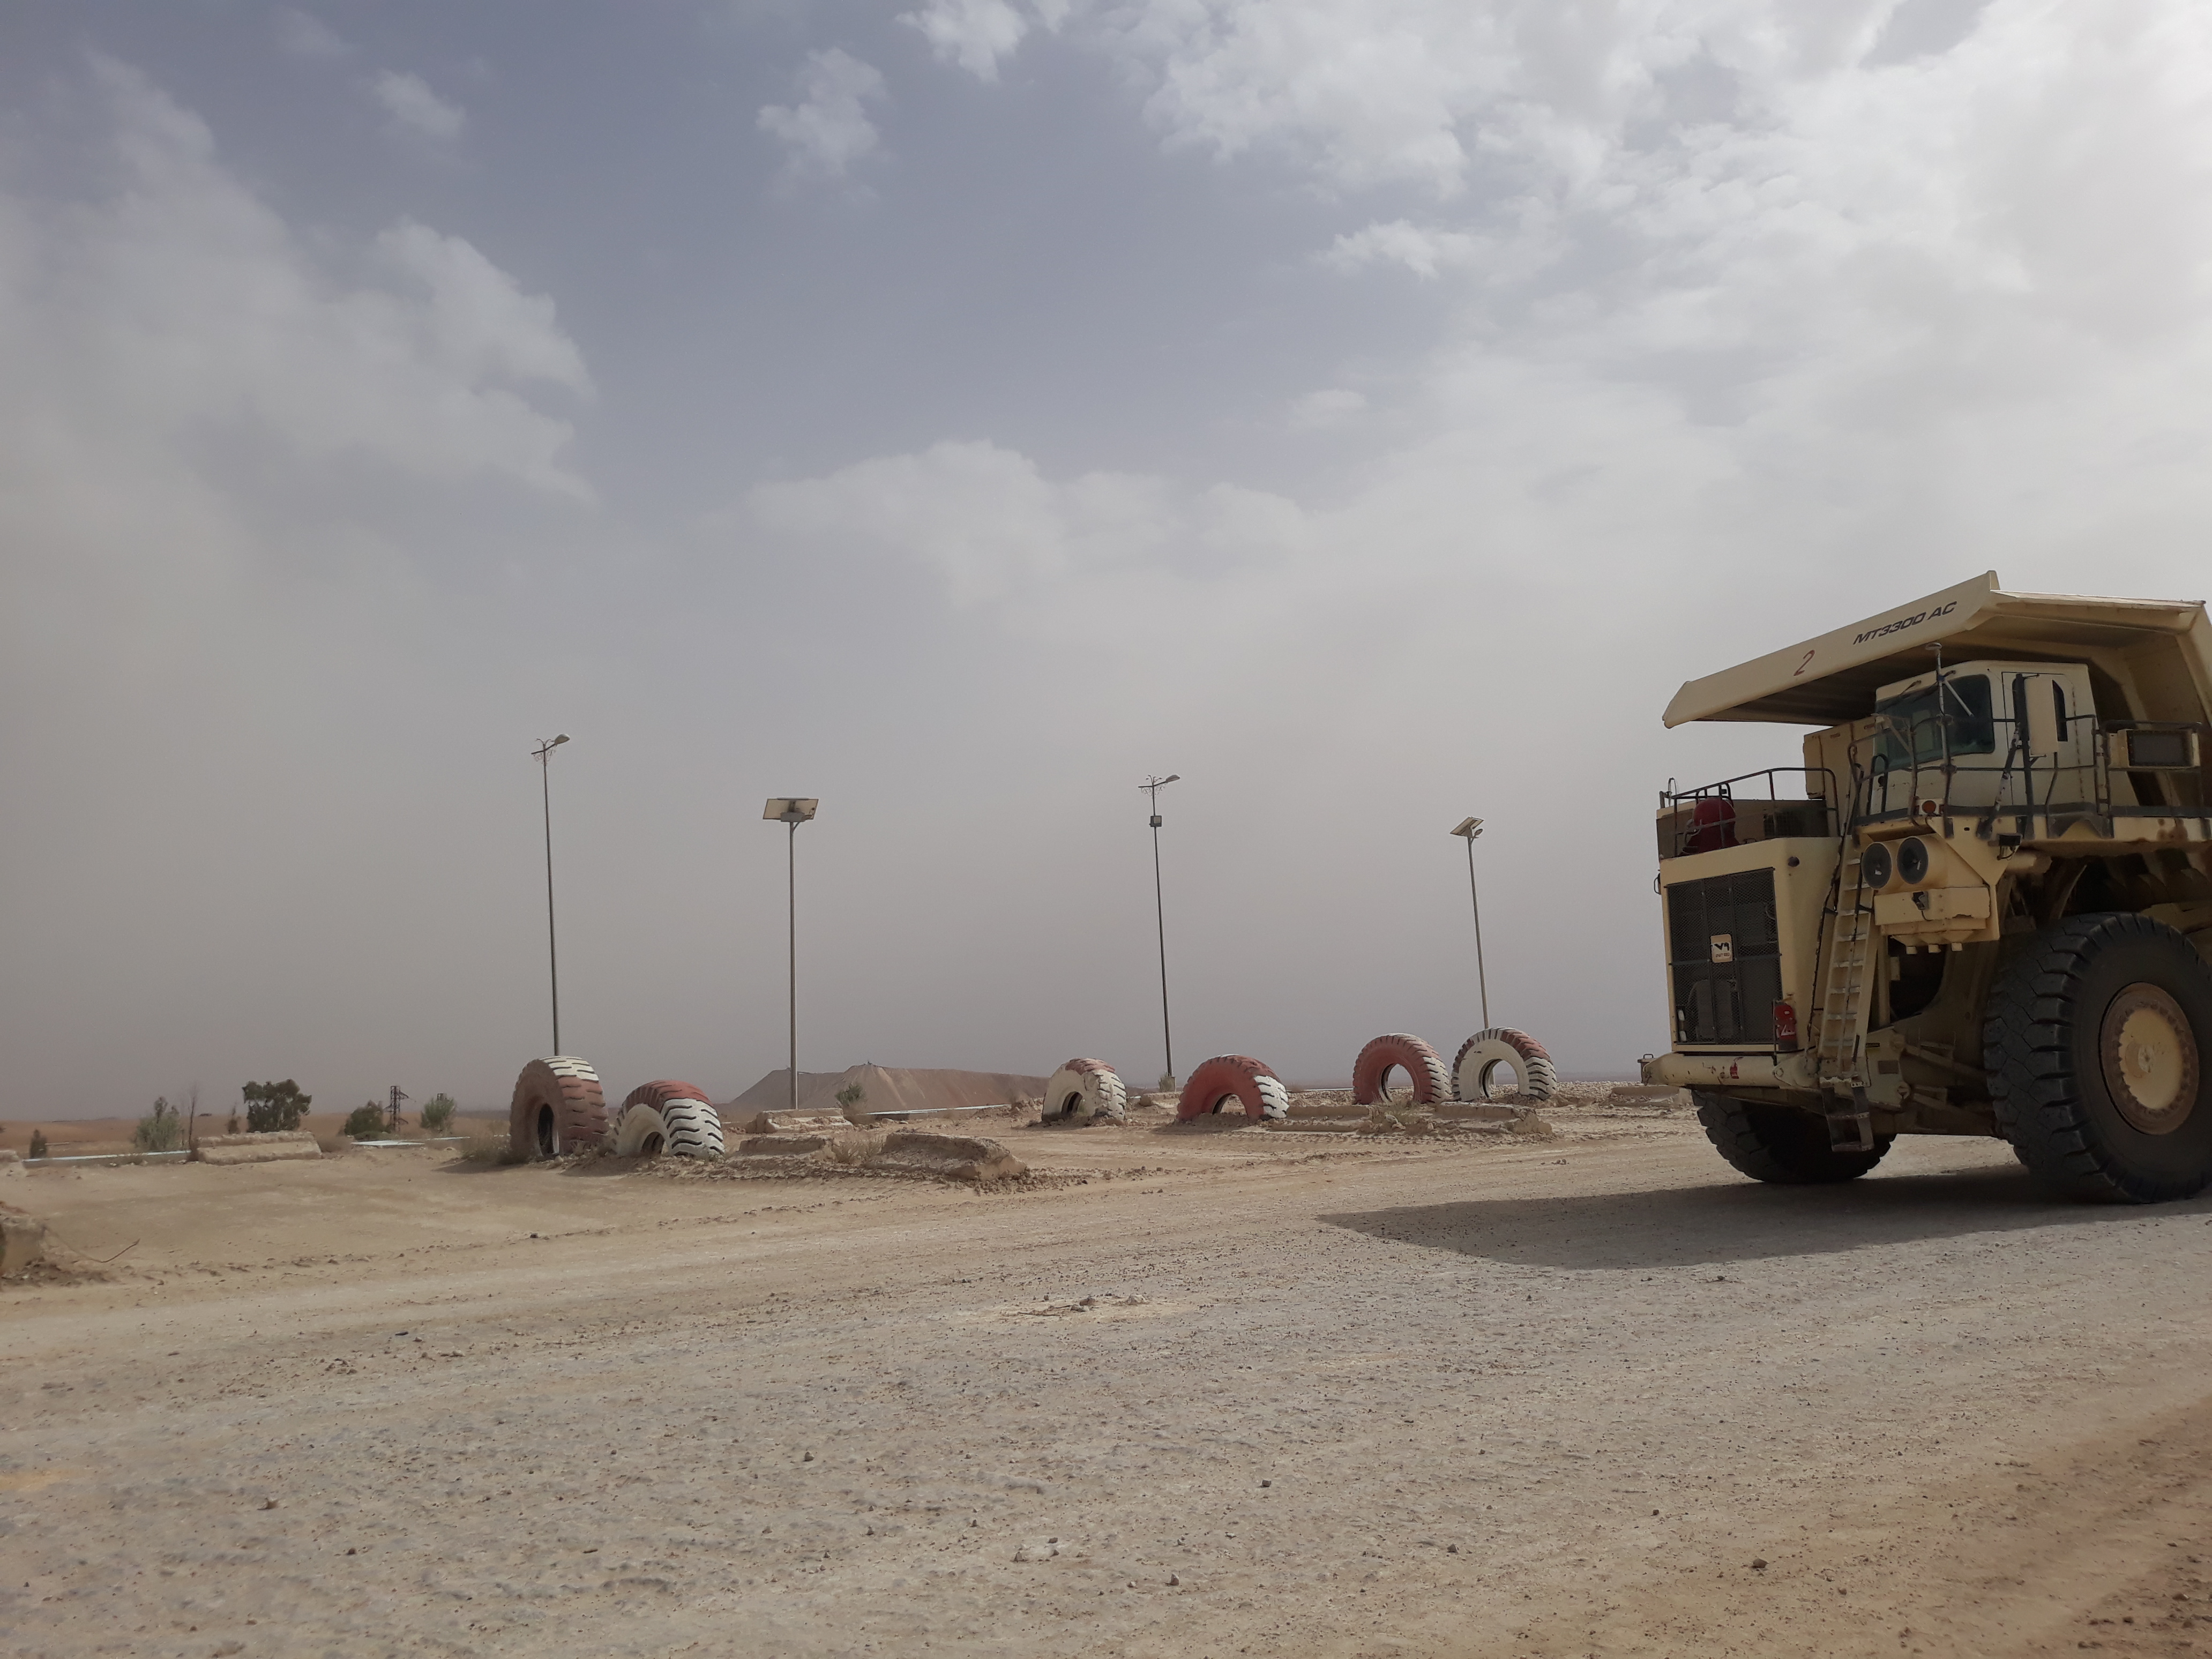camion: (1616, 556, 2212, 1234)
